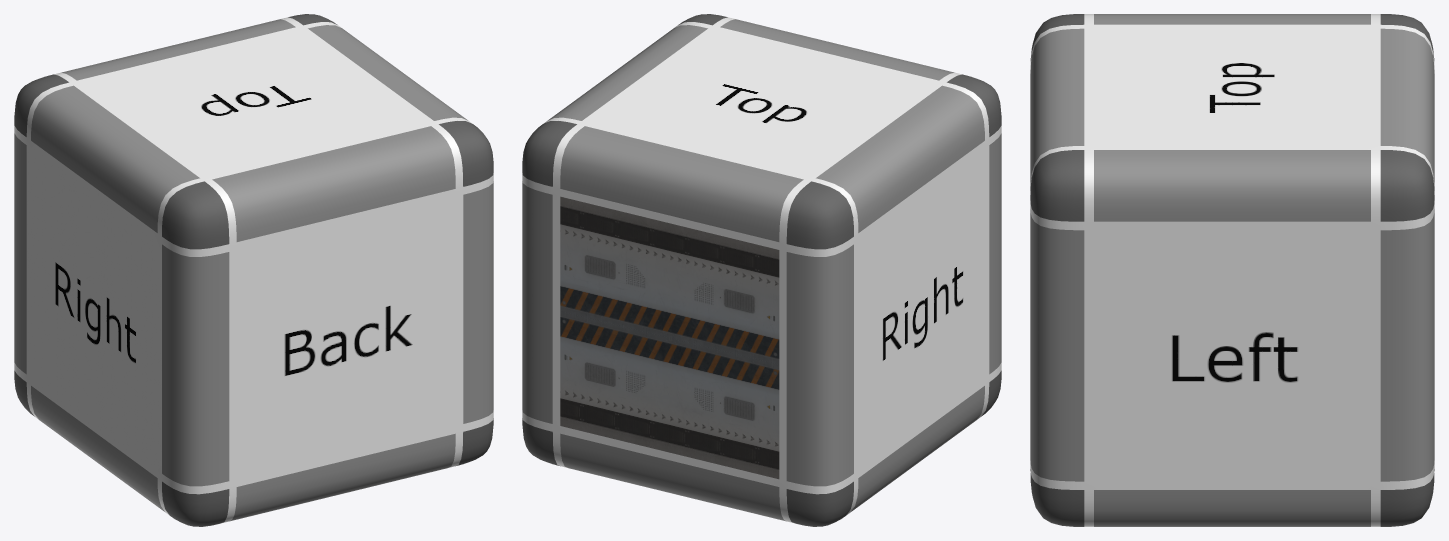
File: gizmo2.obj
The picture shows the model from 3 angles, left to right: view 1: azimuth 30°, elevation 25°; view 2: azimuth 150°, elevation 25°; view 3: azimuth 270°, elevation 25°; orthographic projection. The views are drawn at different scales.
Parts seen in each view (by area): view 1: Back, Right, Top, Space, BackRight, BackTop, RightTop, BackBottom, BackLeft, RightBottom, BackRightTop, LeftTop (+6 smaller); view 2: Front, Right, Top, Space, FrontRight, FrontTop, RightTop, FrontBottom, FrontLeft, RightBottom, FrontRightTop, LeftTop (+6 smaller); view 3: Left, Top, Space, LeftTop, FrontLeft, BackLeft, LeftBottom, FrontTop, BackTop, FrontLeftTop, BackLeftTop, RightTop (+4 smaller).
Part boxes in pixels (x1,y1,x2,y2): Back: (236, 196, 455, 479); Right: (31, 148, 157, 469); Top: (81, 30, 426, 176); Space: (14, 17, 493, 522); BackRight: (162, 244, 229, 486); BackTop: (212, 126, 455, 241); RightTop: (31, 85, 199, 232); BackBottom: (229, 433, 455, 521); BackLeft: (463, 181, 493, 423); RightBottom: (31, 386, 164, 511); BackRightTop: (162, 181, 229, 249); LeftTop: (308, 25, 467, 120); Front: (560, 196, 779, 479); Right: (858, 148, 984, 469); Top: (589, 30, 934, 176); Space: (522, 17, 1001, 522); FrontRight: (786, 244, 853, 486); FrontTop: (560, 126, 803, 241); RightTop: (816, 85, 984, 232); FrontBottom: (560, 433, 786, 521); FrontLeft: (522, 181, 552, 423); RightBottom: (851, 386, 984, 511); FrontRightTop: (786, 181, 853, 249); LeftTop: (548, 25, 707, 120); Left: (1094, 230, 1370, 481); Top: (1094, 28, 1370, 145); Space: (1030, 14, 1434, 526); LeftTop: (1094, 150, 1370, 221); FrontLeft: (1380, 209, 1434, 481); BackLeft: (1030, 209, 1084, 481); LeftBottom: (1094, 490, 1370, 526); FrontTop: (1380, 28, 1434, 190); BackTop: (1030, 28, 1084, 190); FrontLeftTop: (1380, 150, 1434, 221); BackLeftTop: (1030, 150, 1084, 221); RightTop: (1094, 14, 1370, 24).
Size of the model in its own units: 4 by 4 by 4.
Materials: 9 (6 with a texture image).
